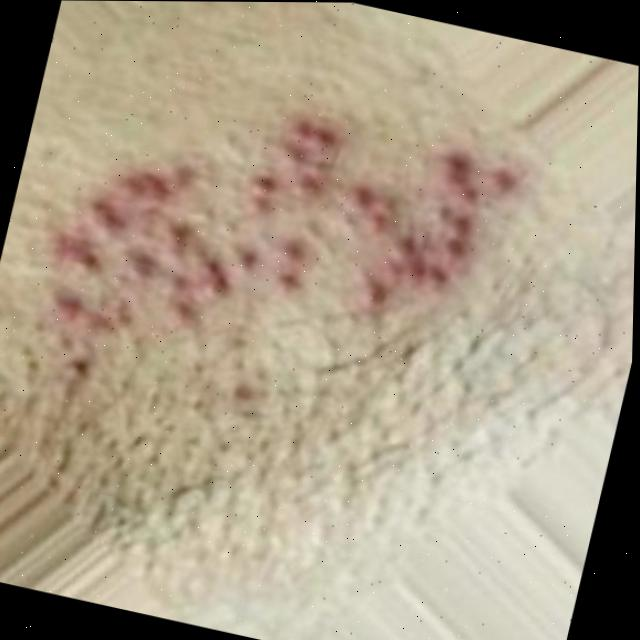Shingles: (13, 54, 528, 443)
